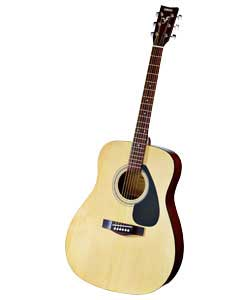guitar: (66, 4, 188, 295)
